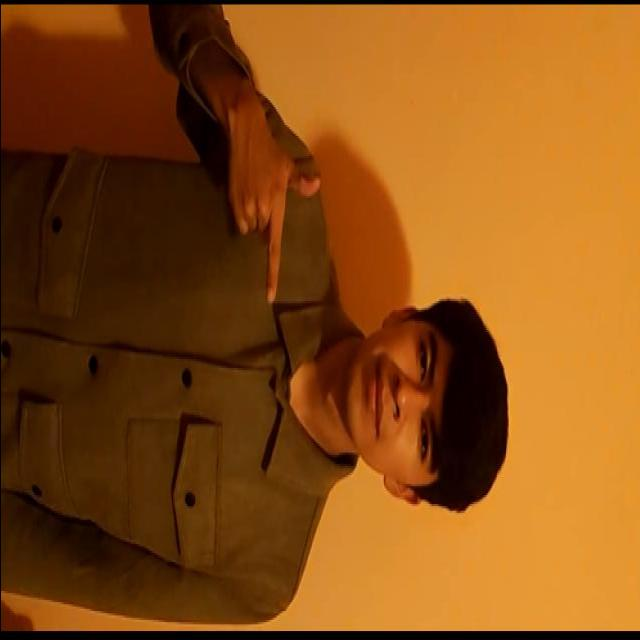G: (218, 73, 332, 319)
